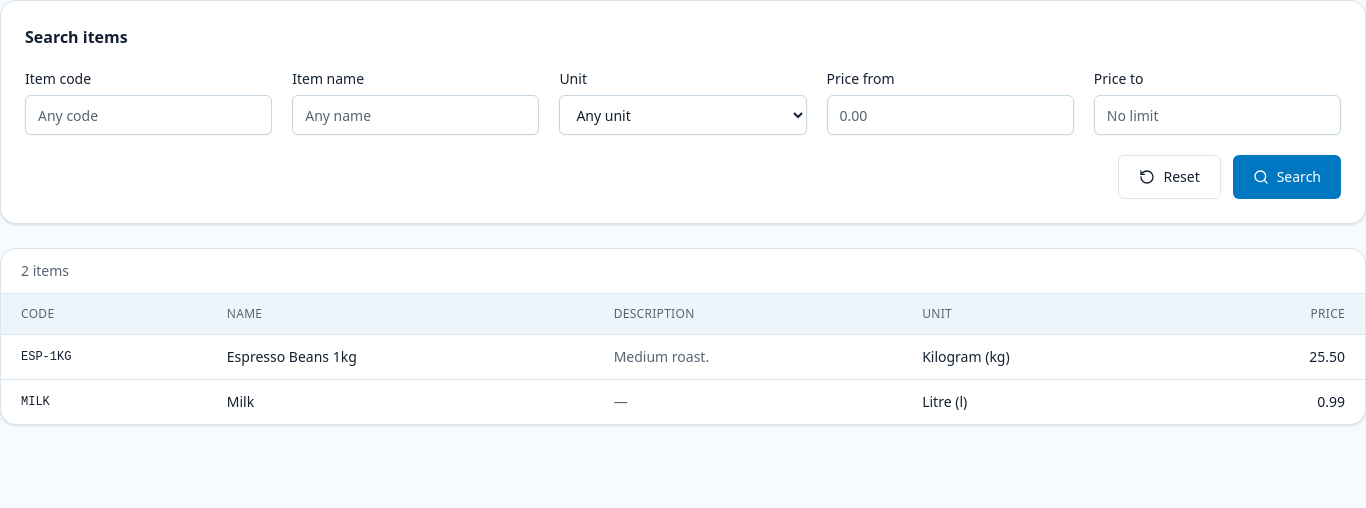
Test: ItemListPage › says when nothing matches, and Reset lists everything again
Expected: the text "2 items" is shown, [1,249,1365,294]
In the field labelled "Item code": [149, 115] box [25,95,272,135], type "nothing"
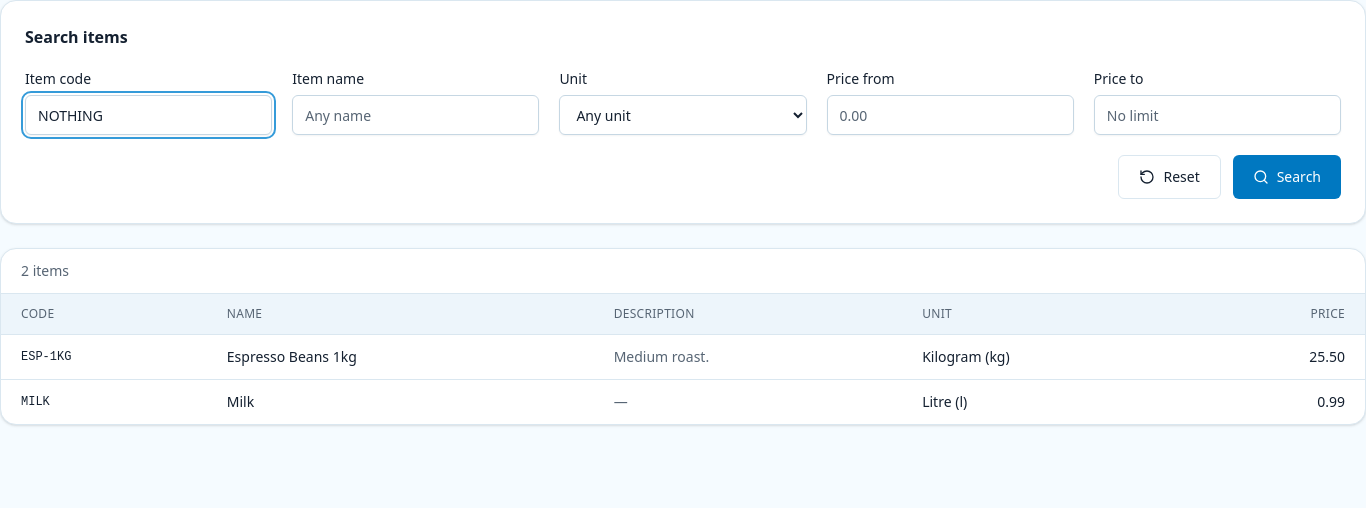
Click the button "Search": [1287, 177] box [1233,155,1341,199]
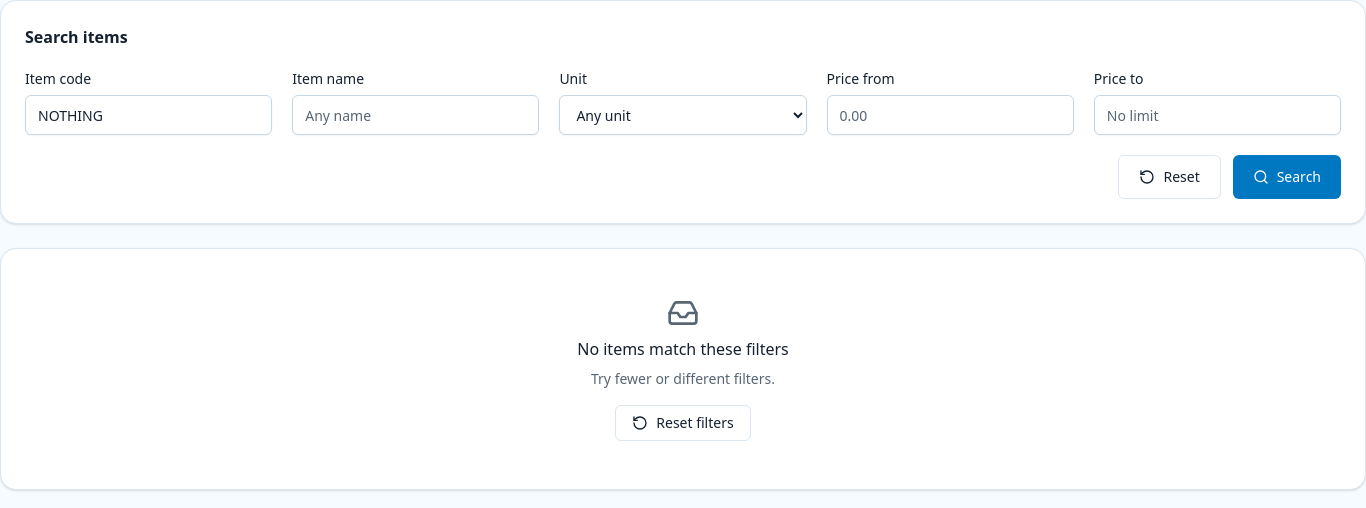
Expected: the heading "No items match these filters" is shown, [577,337,789,361]
Click the button "Reset filters": [683, 423] box [615,405,751,441]
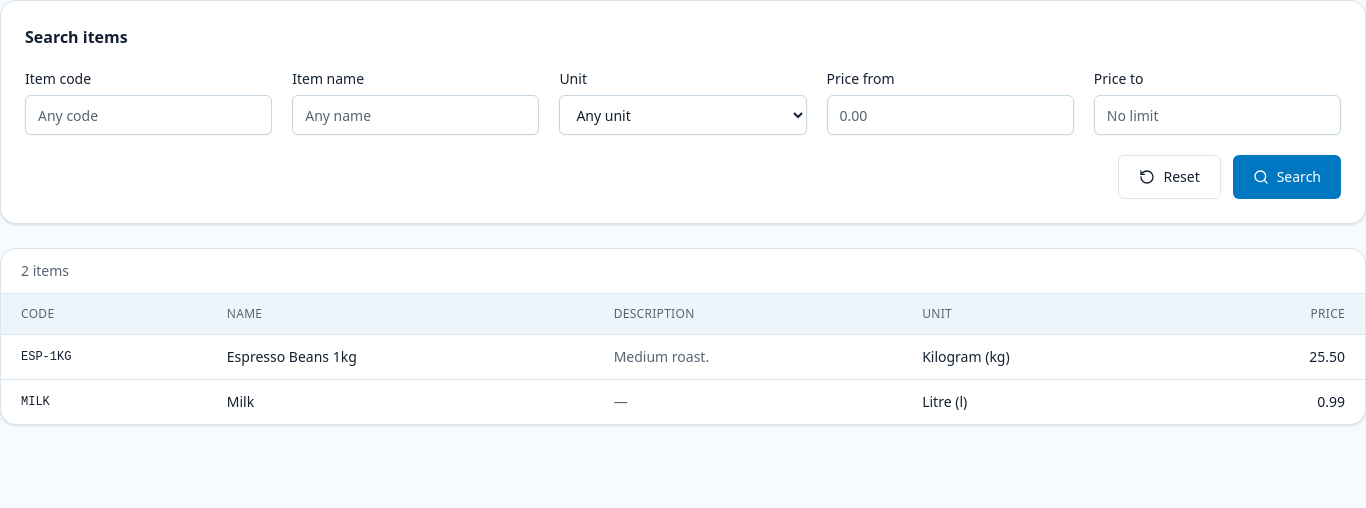
Expected: the text "2 items" is shown, [1,249,1365,294]
Expected: the field labelled "Item code" is empty, [25,95,272,135]
